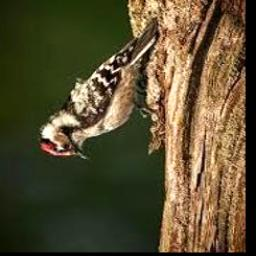Woodpecker: (38, 20, 157, 161)
